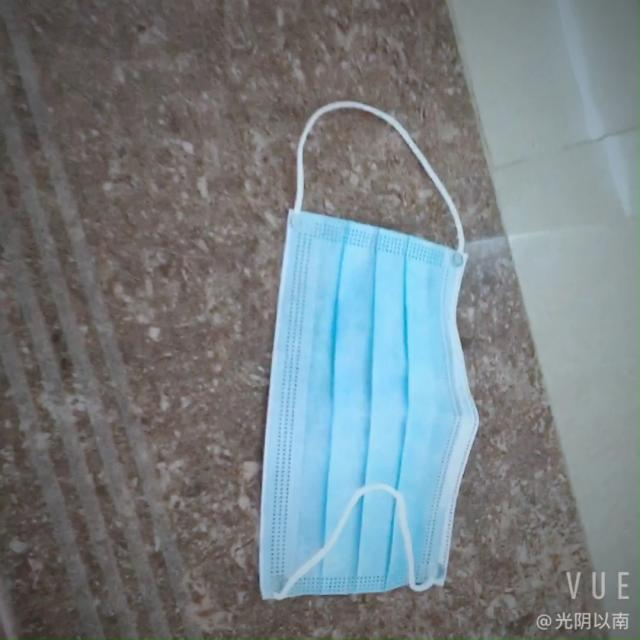non-organic waste: (250, 212, 466, 600)
